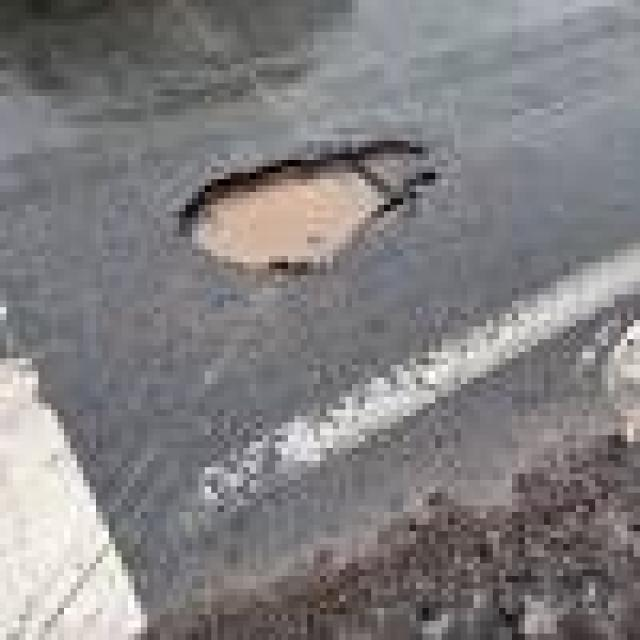Pothole: (179, 141, 435, 275)
